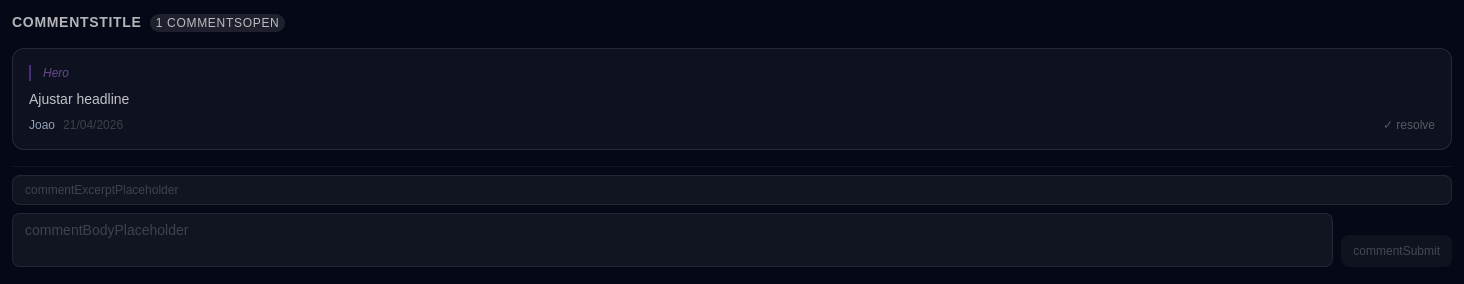
Test: ProposalComments › permite ao admin resolver comentario aberto
Expected: the text "Ajustar headline" is shown, top-left (29, 91), bottom-right (129, 107)
Click the button "✓ resolve". click: coordinates (1409, 125)
box: top-left (1383, 117), bottom-right (1435, 133)
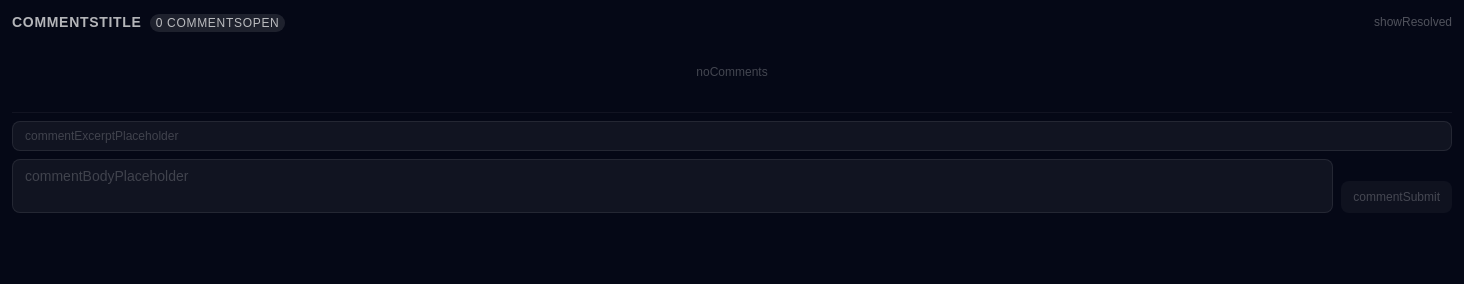
Now the text "noComments" is shown, box top-left (696, 65), bottom-right (768, 79)
